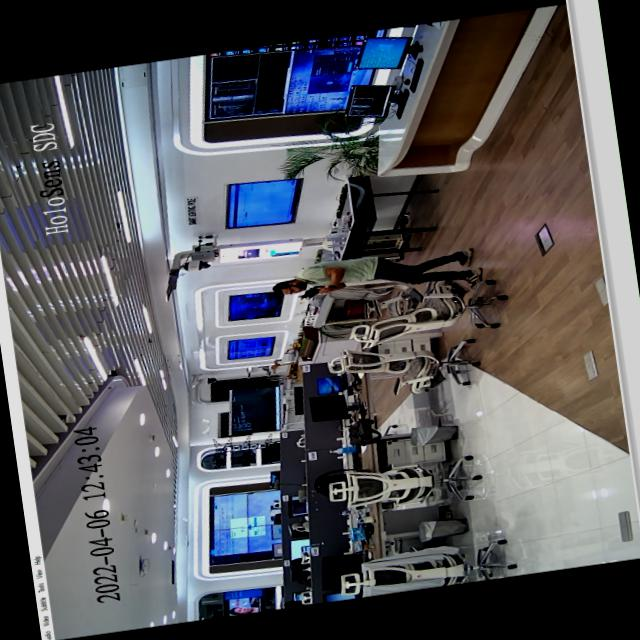long weapon: (288, 280, 338, 304)
